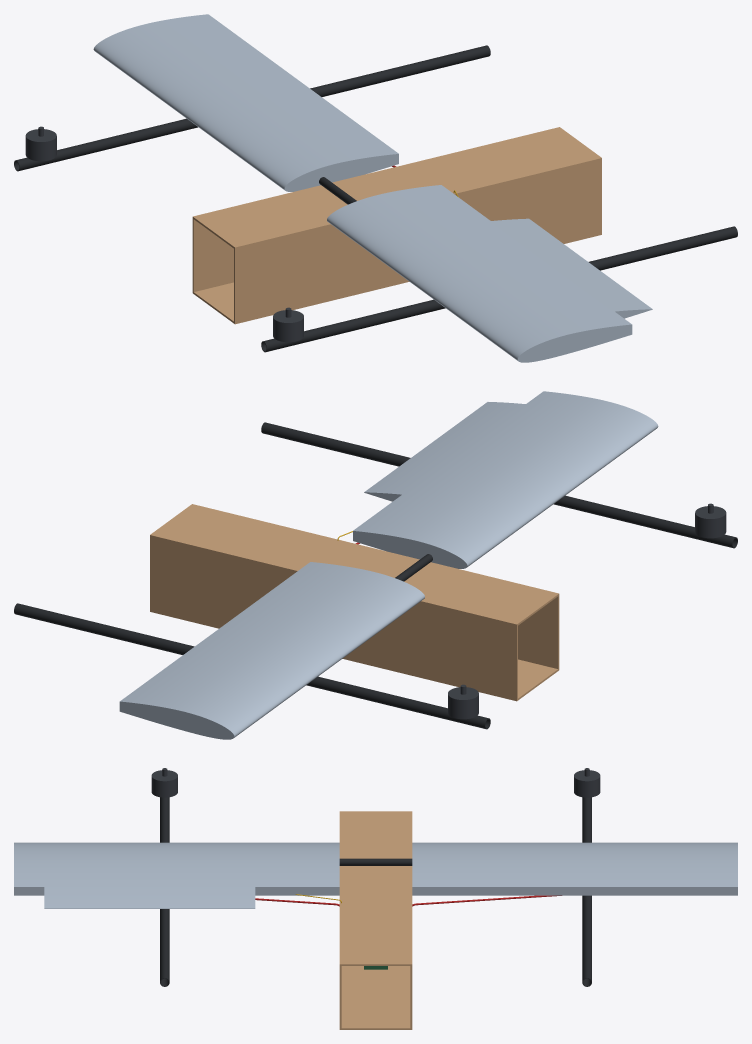
File: assembly.glb
The picture shows the model from 3 angles, top to bottom: view 1: azimuth 30°, elevation 25°; view 2: azimuth 150°, elevation 25°; view 3: azimuth 270°, elevation 25°; orthographic projection. The views are drawn at different scales.
Parts seen in each view (by area): view 1: FUS-001, WNG-001, WNG-002, BMS-002, WNG-004, BMS-001, BMS-004, BMS-003; view 2: FUS-001, WNG-002, WNG-001, BMS-002, WNG-004, BMS-001, BMS-003, BMS-004; view 3: WNG-002, WNG-001, FUS-001, WNG-004, BMS-002, BMS-001, BMS-003, BMS-004, WNG-003.
Part boxes in pixels (box(x1,y1,x2,y2)): FUS-001: box(192, 127, 601, 324); WNG-001: box(327, 185, 632, 362); WNG-002: box(93, 14, 398, 191); BMS-002: box(14, 45, 490, 171); WNG-004: box(491, 218, 652, 318); BMS-001: box(261, 226, 737, 352); BMS-004: box(25, 126, 56, 161); BMS-003: box(273, 307, 303, 342); FUS-001: box(150, 504, 559, 701); WNG-002: box(119, 562, 424, 739); WNG-001: box(353, 391, 658, 568); BMS-002: box(14, 603, 490, 729); WNG-004: box(364, 402, 525, 501); BMS-001: box(261, 422, 737, 548); BMS-003: box(695, 503, 726, 538); BMS-004: box(448, 684, 478, 719); WNG-002: box(412, 842, 737, 895); WNG-001: box(14, 842, 339, 895); FUS-001: box(339, 811, 412, 1029); WNG-004: box(44, 887, 255, 908); BMS-002: box(582, 797, 591, 986); BMS-001: box(160, 797, 169, 986); BMS-003: box(151, 768, 177, 797); BMS-004: box(574, 768, 600, 797); WNG-003: box(339, 858, 412, 865).
Bounding box in the file's own units: 0.77 × 0.16 × 1.2.
